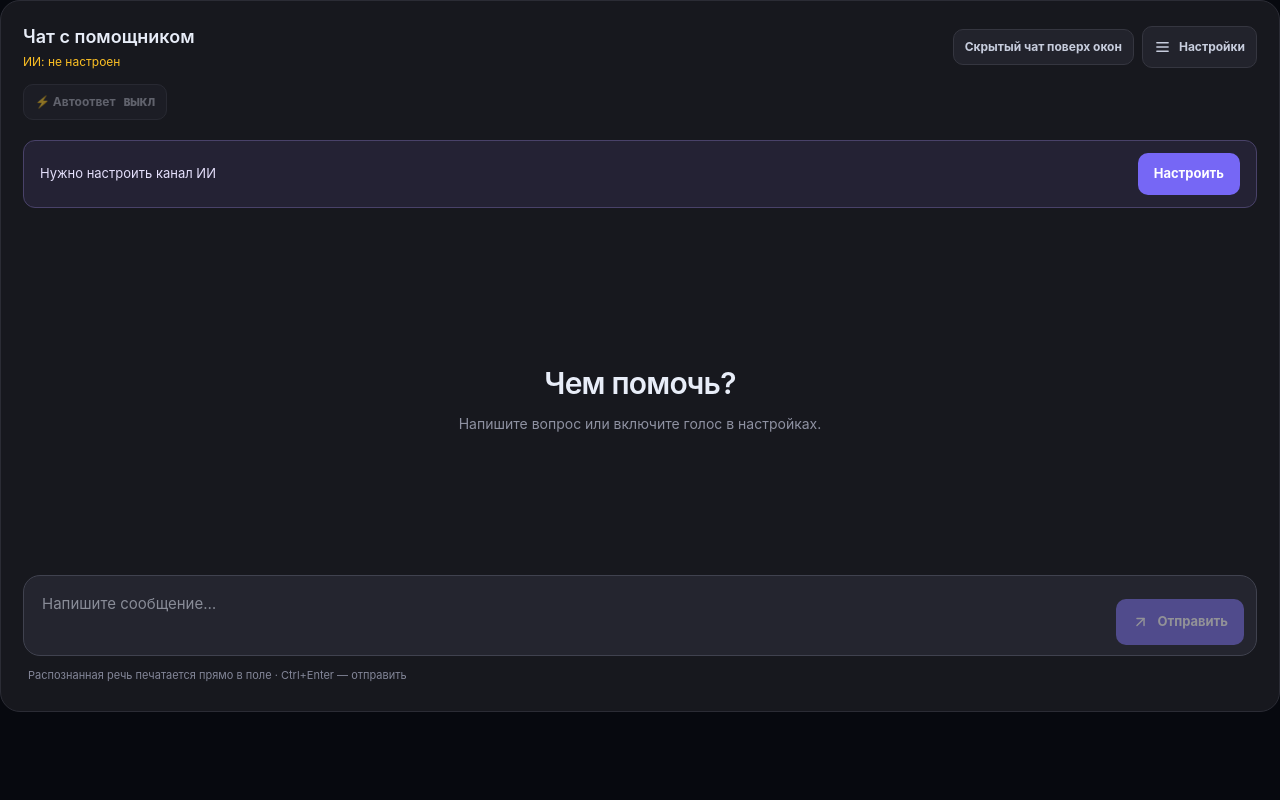
Test: disconnected state points to AI settings without asking for a code
Expected: the text "Нужно настроить канал ИИ" is shown, [40,164,216,184]
Click the button "Настроить" at (1189, 174), box [1138,153,1240,194]
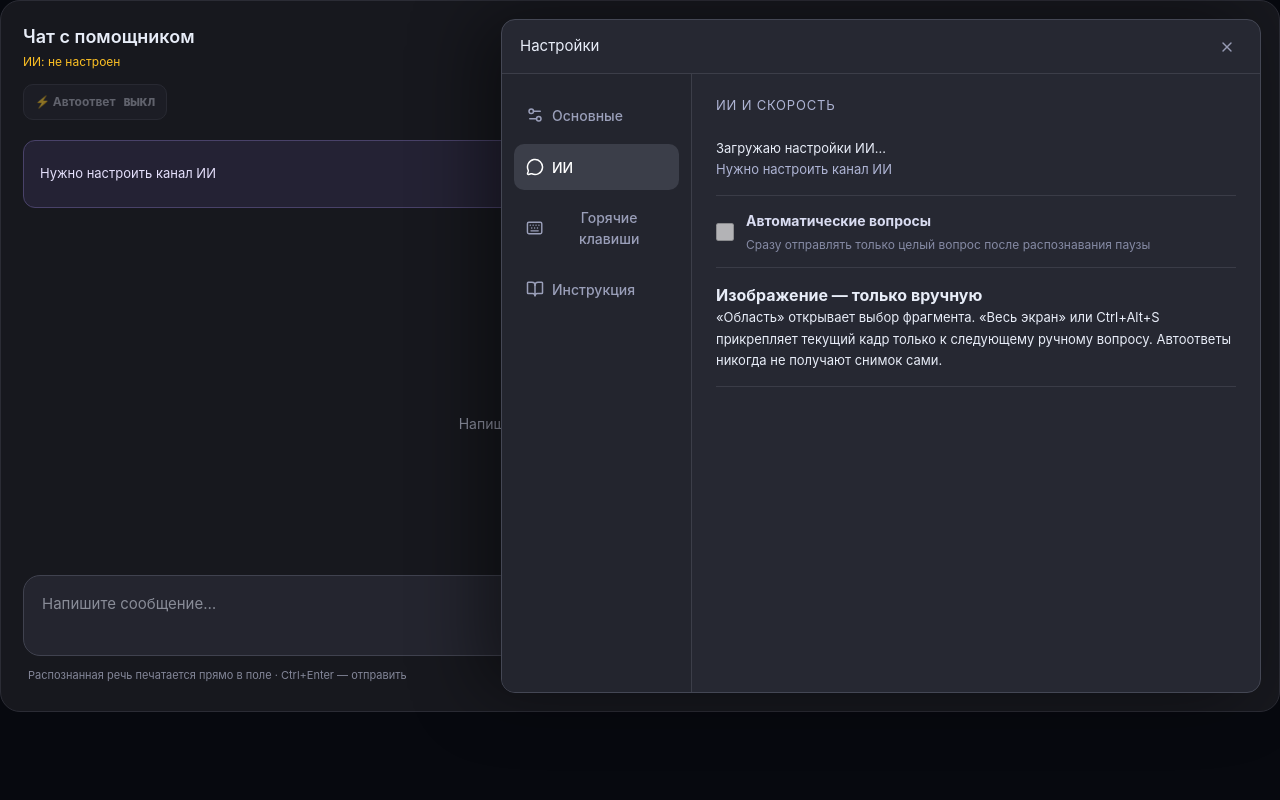
Expected: the heading "Настройки" is shown, [520,35,599,58]
Expected: the heading "ИИ и скорость" is shown, [716,97,835,113]
Click the button "Инструкция" at (596, 289), box [514,266,679,312]
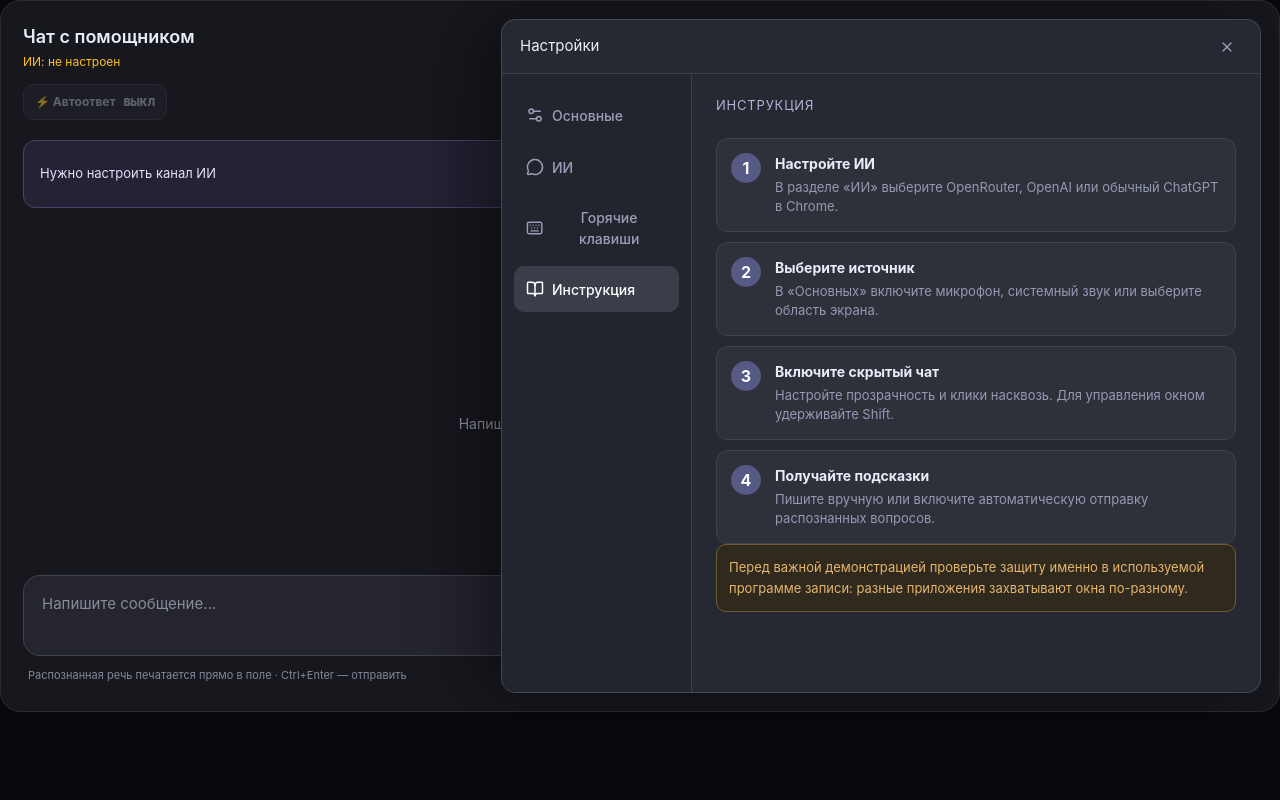
Expected: the text "Настройте ИИ" is shown, [775,154,875,172]
